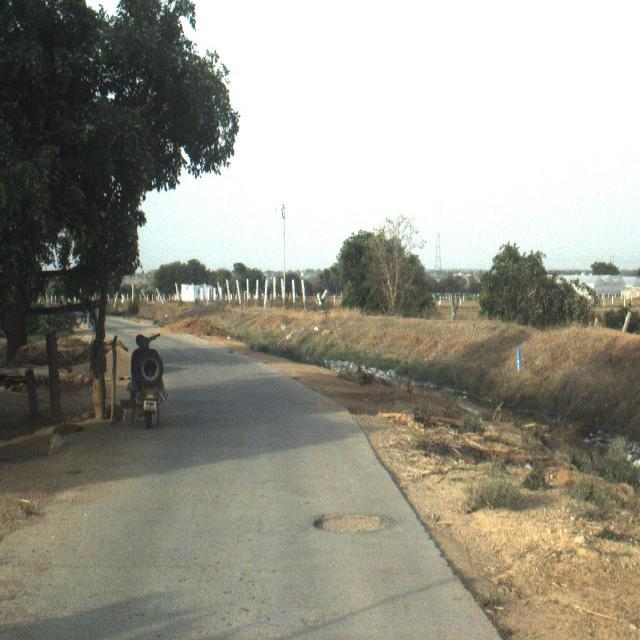pothole: (282, 492, 402, 577)
